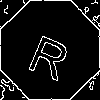R: (25, 25, 77, 82)
